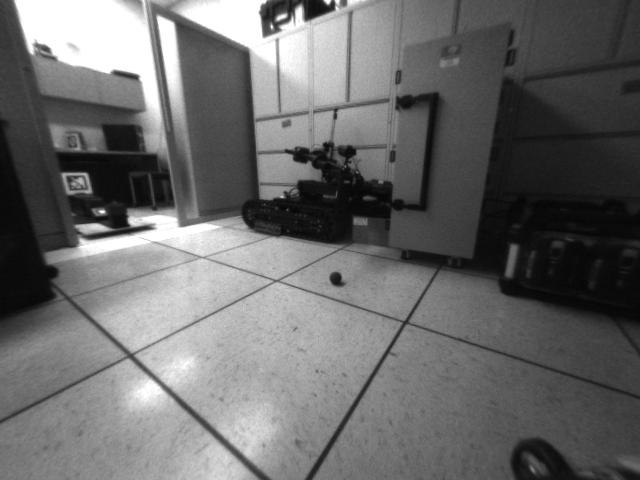dogtoy: (325, 266, 348, 287)
